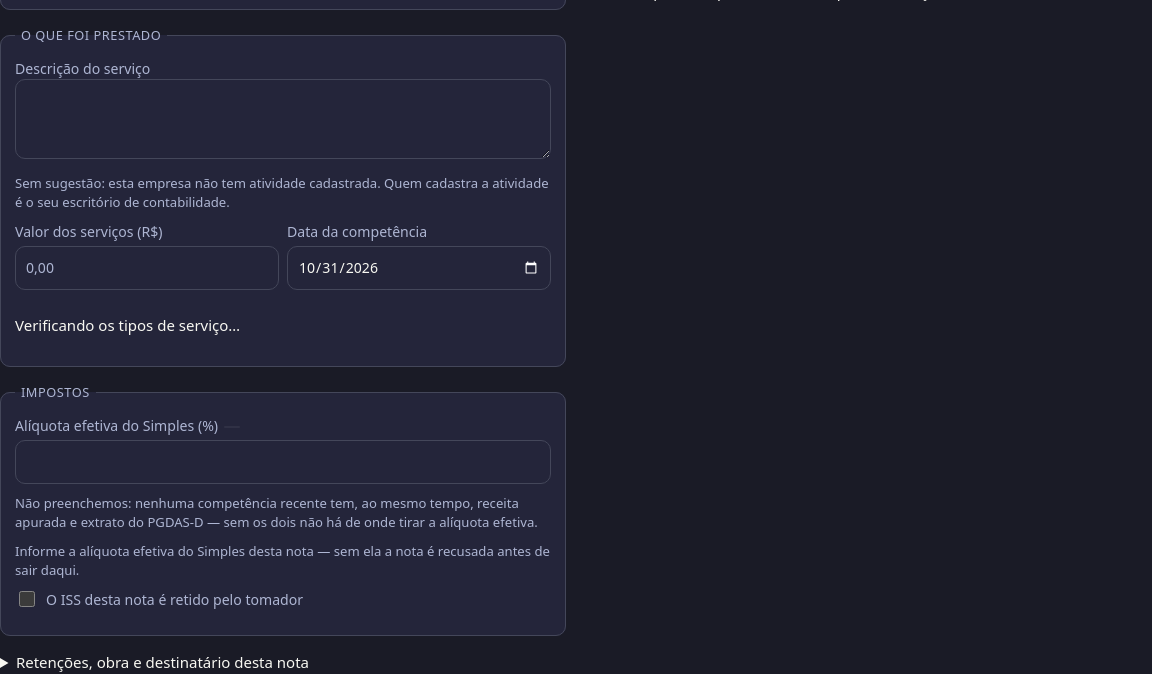
Test case: o VALOR: campo de moeda, uma leitura só › é campo de texto mascarado, não mais `type=number`
The width and height of the screenshot is (1152, 674).
(page scrolled)
Type "150000" into the field with id "emitir-valor" at x=147, y=268, box [15,246,279,290]
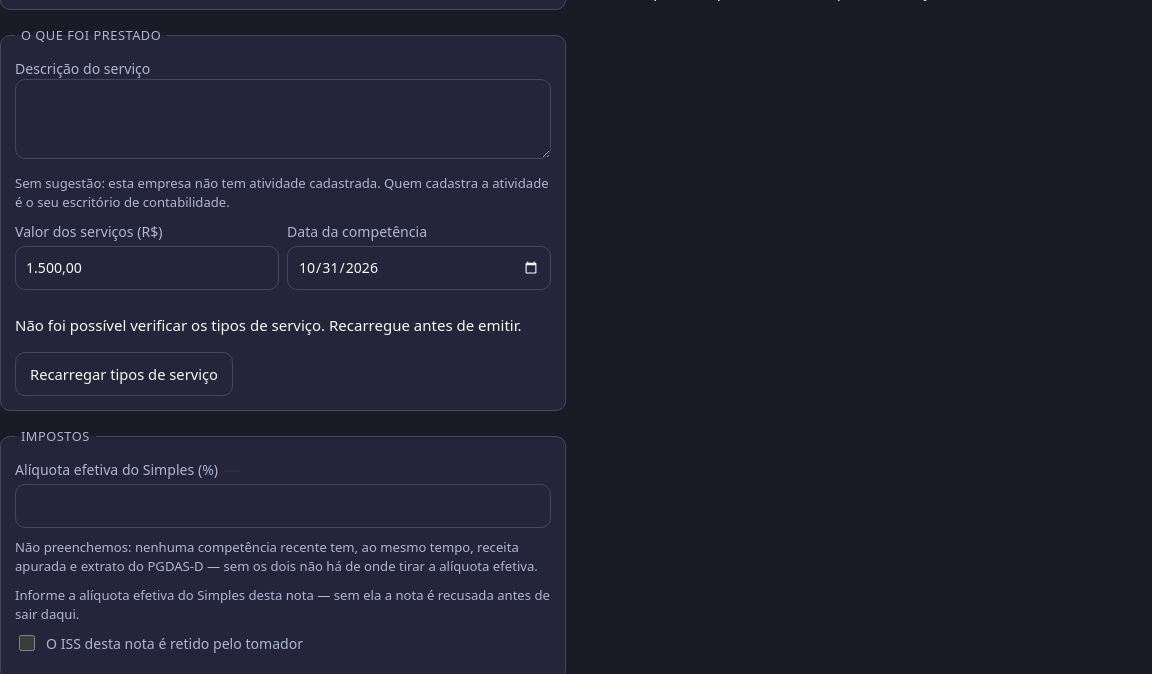
Now the field with id "emitir-valor" holds "1.500,00", box [15,246,279,290]
